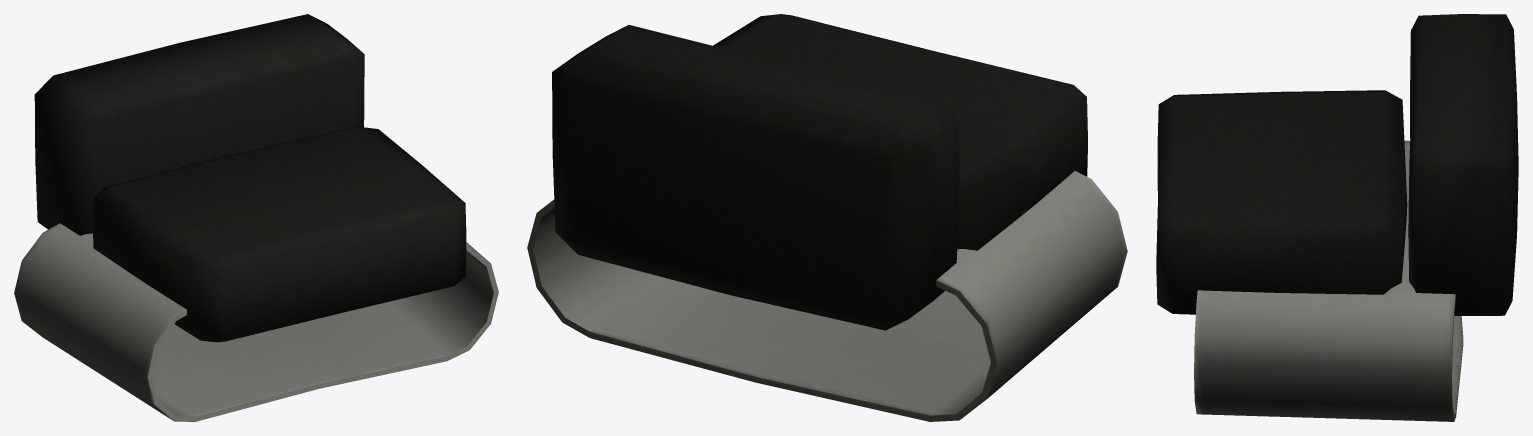
File: NetW_Chair1P04_black.FBX
3 views of the same model, side by side, from view 1: azimuth 30°, elevation 25°; view 2: azimuth 150°, elevation 25°; view 3: azimuth 270°, elevation 25° (orthographic). The views are drawn at different scales.
Visible parts, largest first — view 1: NetW_Chair1P03; view 2: NetW_Chair1P03; view 3: NetW_Chair1P03.
Part boxes in pixels (x1=…): NetW_Chair1P03: x1=14, y1=14, x2=498, y2=421; NetW_Chair1P03: x1=527, y1=14, x2=1127, y2=421; NetW_Chair1P03: x1=1156, y1=14, x2=1518, y2=421.
Size of the model in its own units: 1.16 by 0.7159 by 0.8879.
